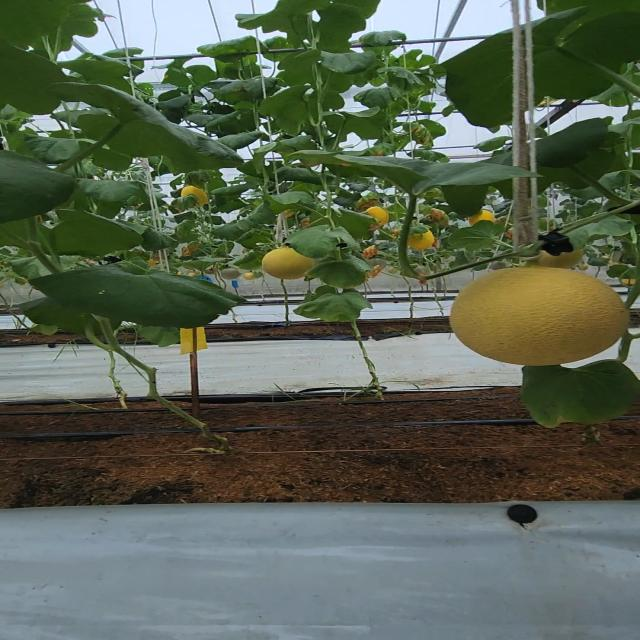Melon: (448, 266, 636, 370)
